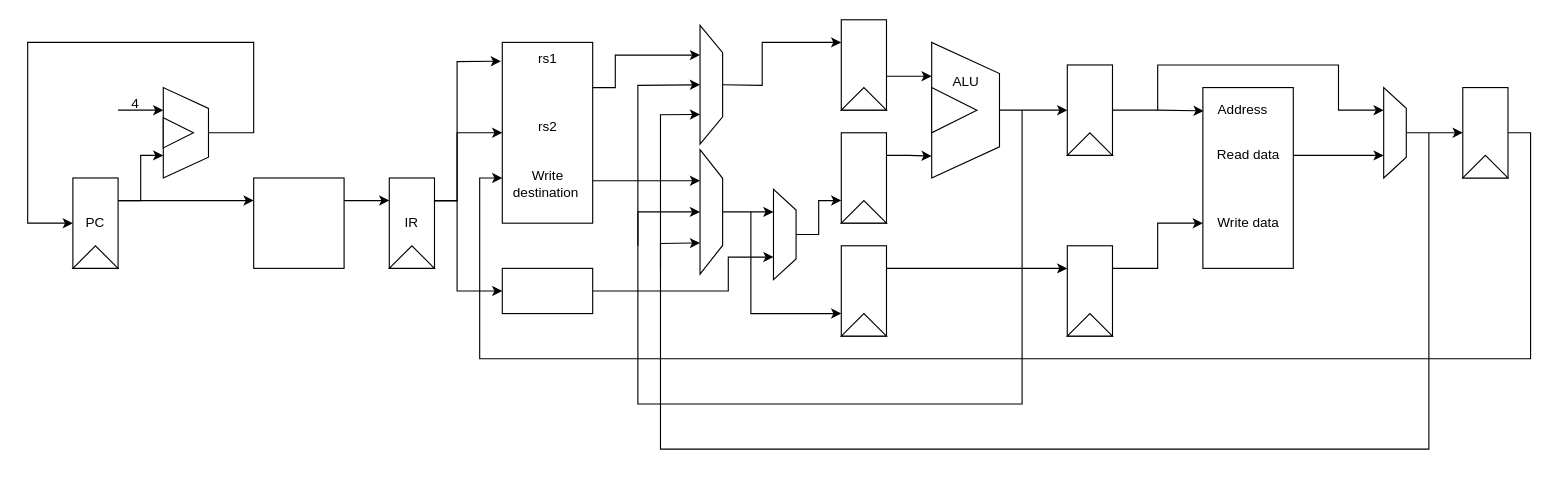
This 1559x478 diagram has some shape labels left out. Each missing label, with the centre of its shape:
Immediate/ Sign Extender: (547,290)
Instruction Memory: (298,222)
